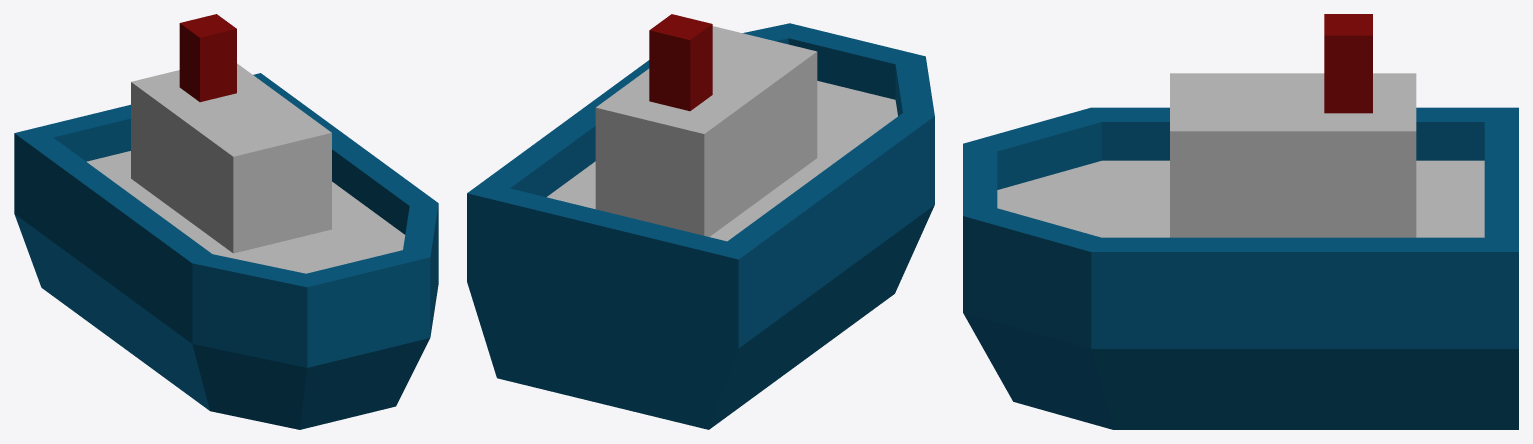
The model's file is boat.glb.
3 renders of one model, left to right at view 1: azimuth 30°, elevation 25°; view 2: azimuth 150°, elevation 25°; view 3: azimuth 270°, elevation 25°, orthographic. The views are drawn at different scales.
Visible parts, largest first — view 1: boat; view 2: boat; view 3: boat.
Boxes of the visible parts, x1,y1,x2,y2 form: boat: [14, 14, 438, 429]; boat: [467, 14, 934, 429]; boat: [963, 14, 1518, 429].
Bounding box in the file's own units: 2 × 2.25 × 3.25.
Materials: 1 (1 with a texture image).
